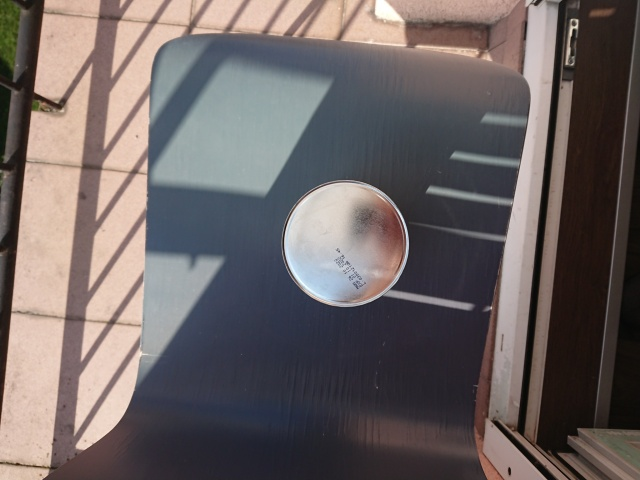Nescafe Classic 225g: (273, 172, 417, 315)
